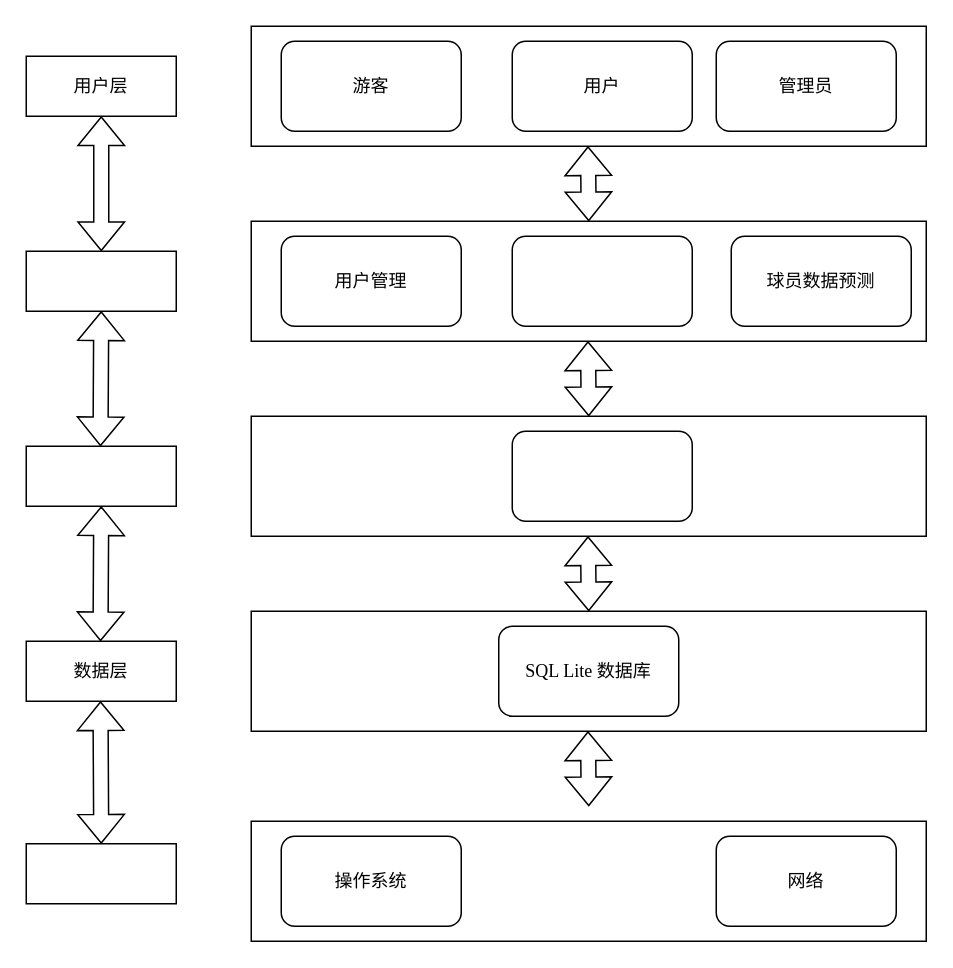
The diagram is 953 pixels wide and 968 high, and some of its shapes have lost their labels. The shapes that lost their labels are listed below. From the top down, each one's box as (x1, y1, x2, y2) in pixels, then its label:
(25, 250, 176, 311): 应用层
(511, 235, 692, 326): 球员数据可视化
(25, 445, 176, 506): 应用支撑层
(511, 430, 692, 521): 数据接口服务
(25, 842, 176, 904): 基础平台层
